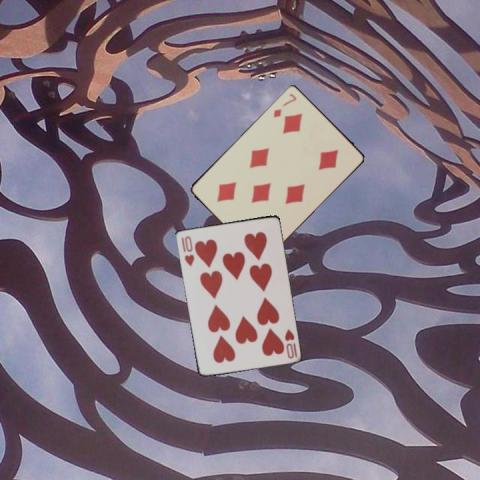10h: (281, 326, 299, 360), (178, 233, 195, 267)
7d: (270, 90, 298, 119)
